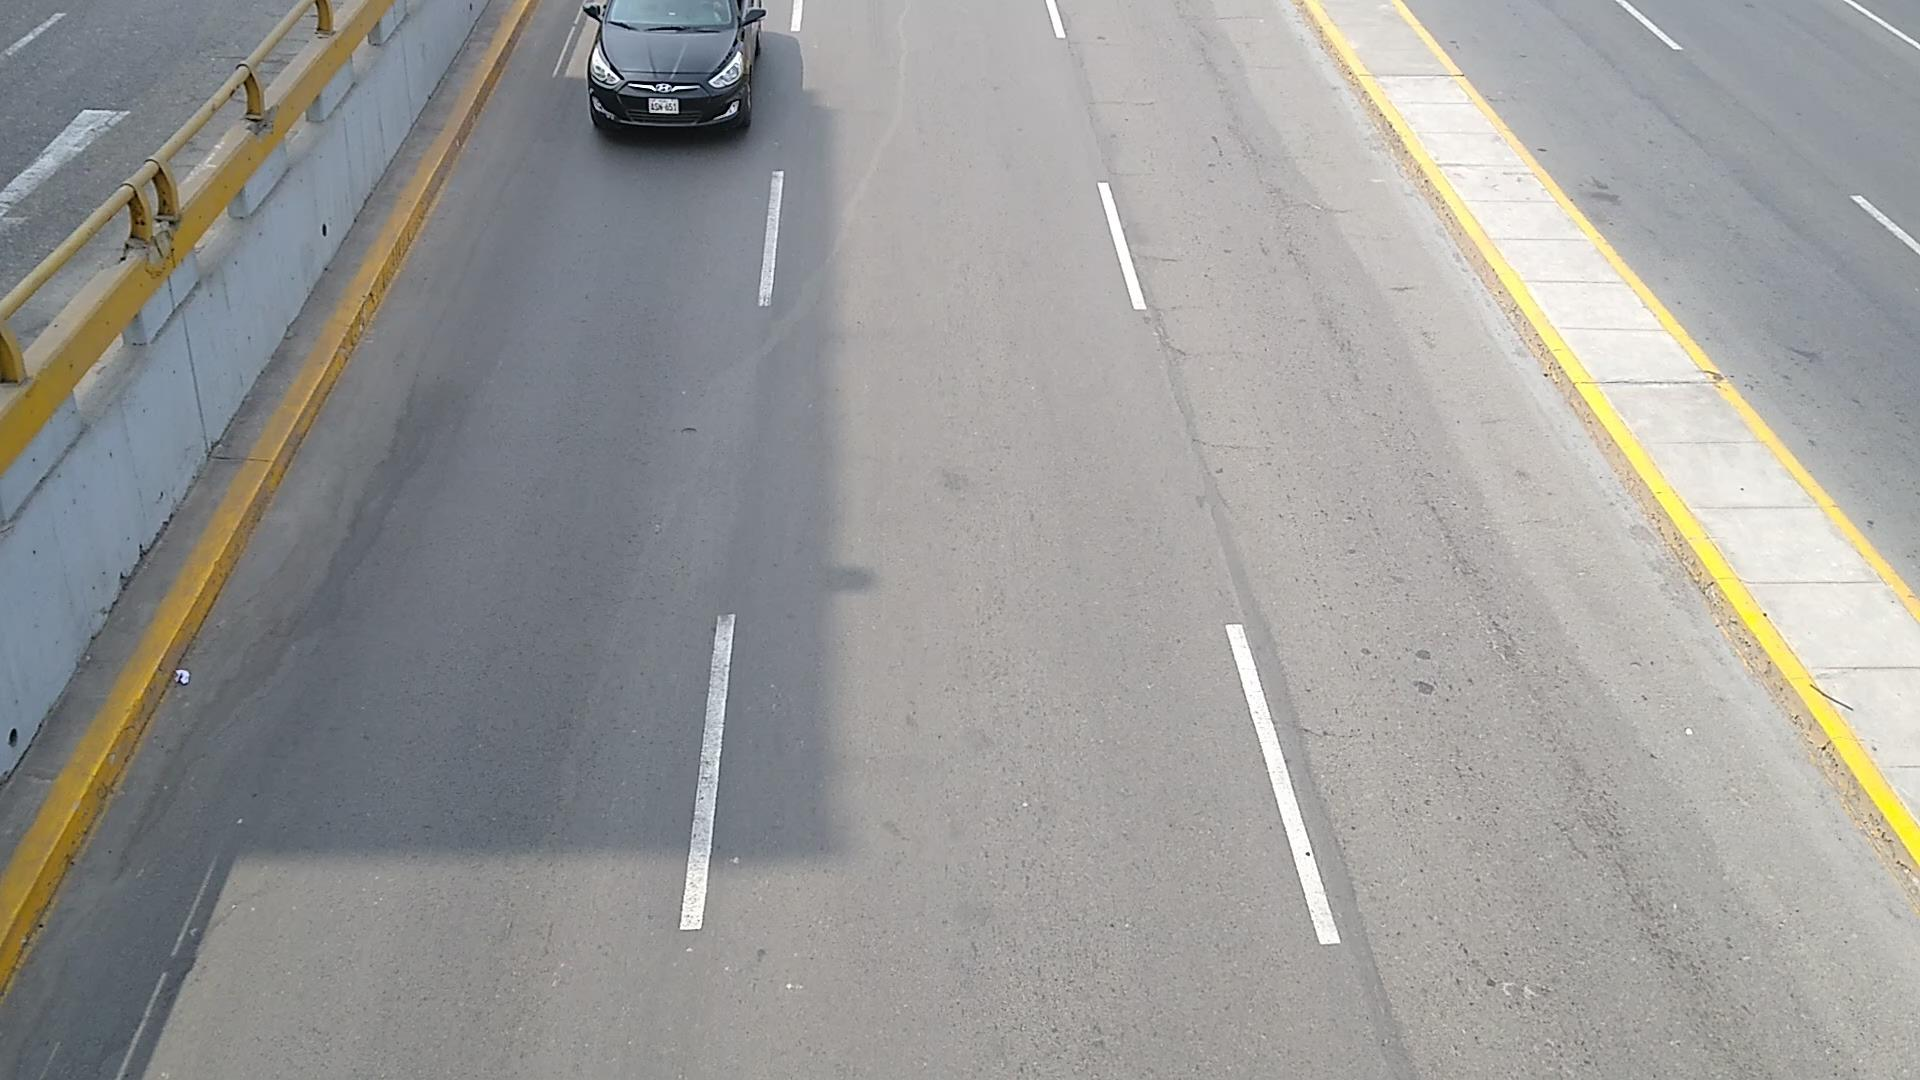car: (585, 0, 765, 129)
